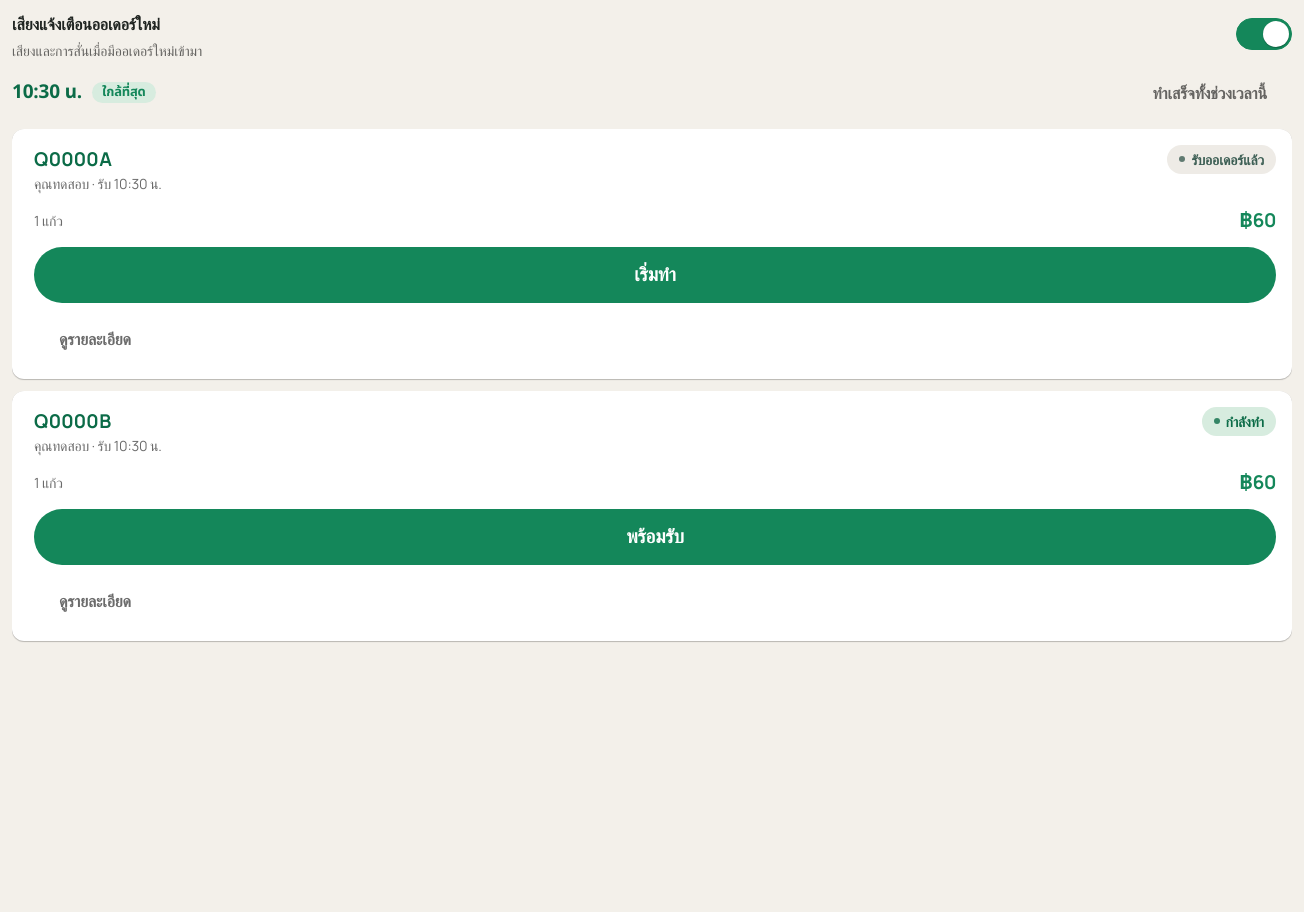
WBS 5.9 — InboxClient: bulk 'ทำเสร็จทั้งช่วงเวลานี้' partial failure is reported per order, honestly › REQUIRED: a partial failure names the specific failed order code(s) — not a generic 'some failed' message — and is NOT reported as atomic (the succeeded order's
Click the button with test id "bulk-ready-button": coordinates (1210, 92) [1127, 68, 1292, 116]
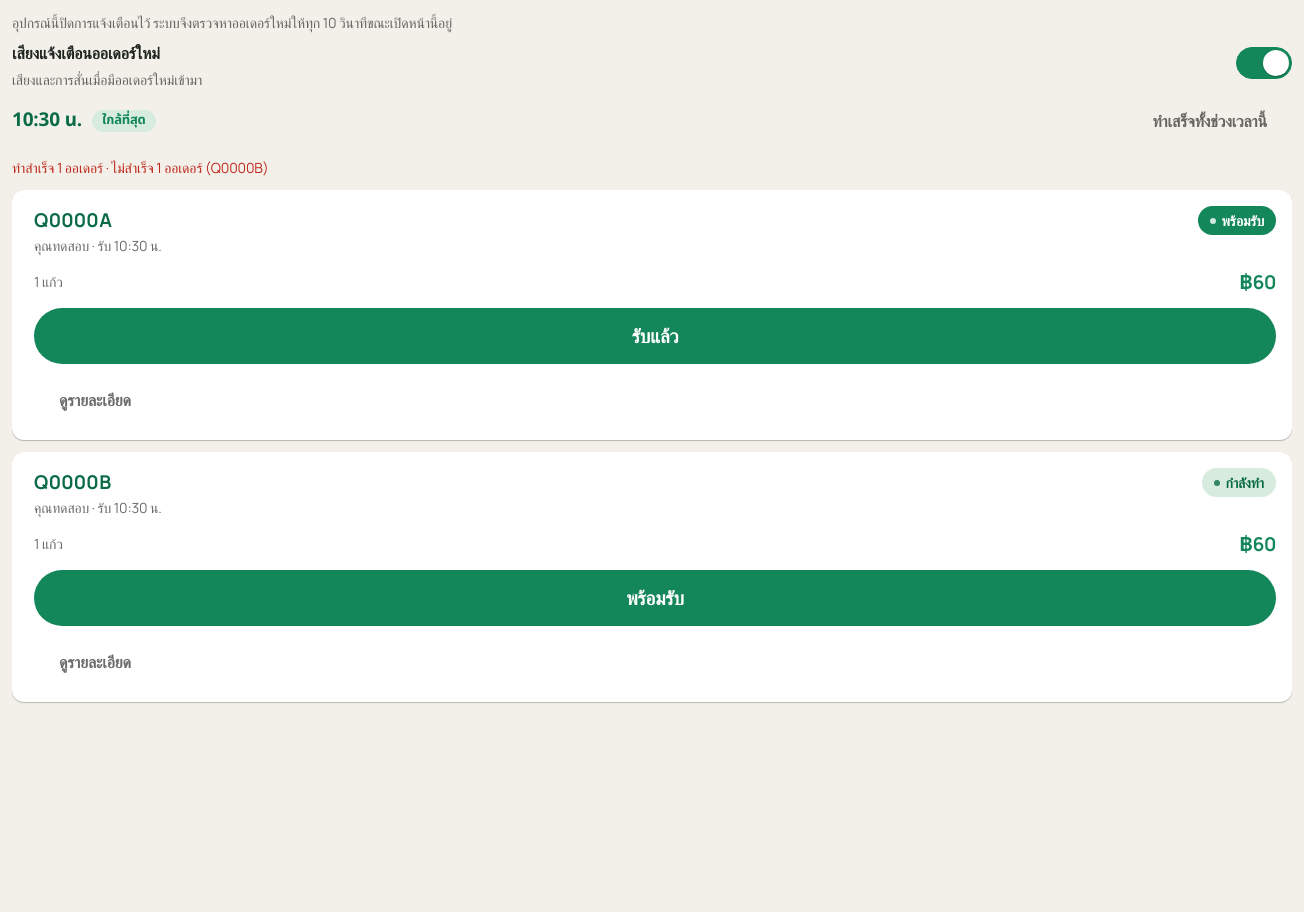
Check: the message with test id "bulk-ready-result" shows "Q0000B", box [12, 158, 269, 177]
Check: the message with test id "bulk-ready-result" shows "สำเร็จ 1", box [12, 158, 269, 177]
Check: the text "พร้อมรับ" is shown, box [1198, 206, 1276, 235]
